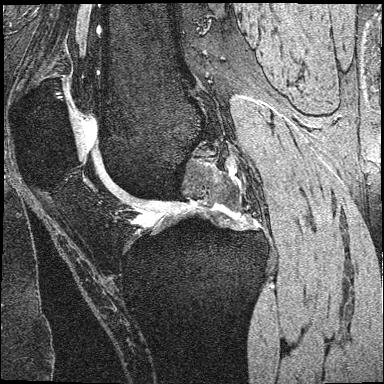SagKneeJointArea: (7, 75, 270, 318)
